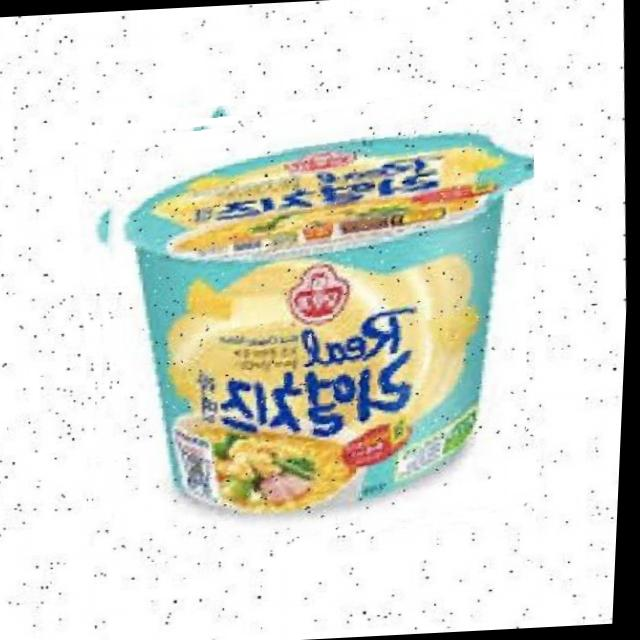Miscellaneous: (65, 89, 558, 564)
